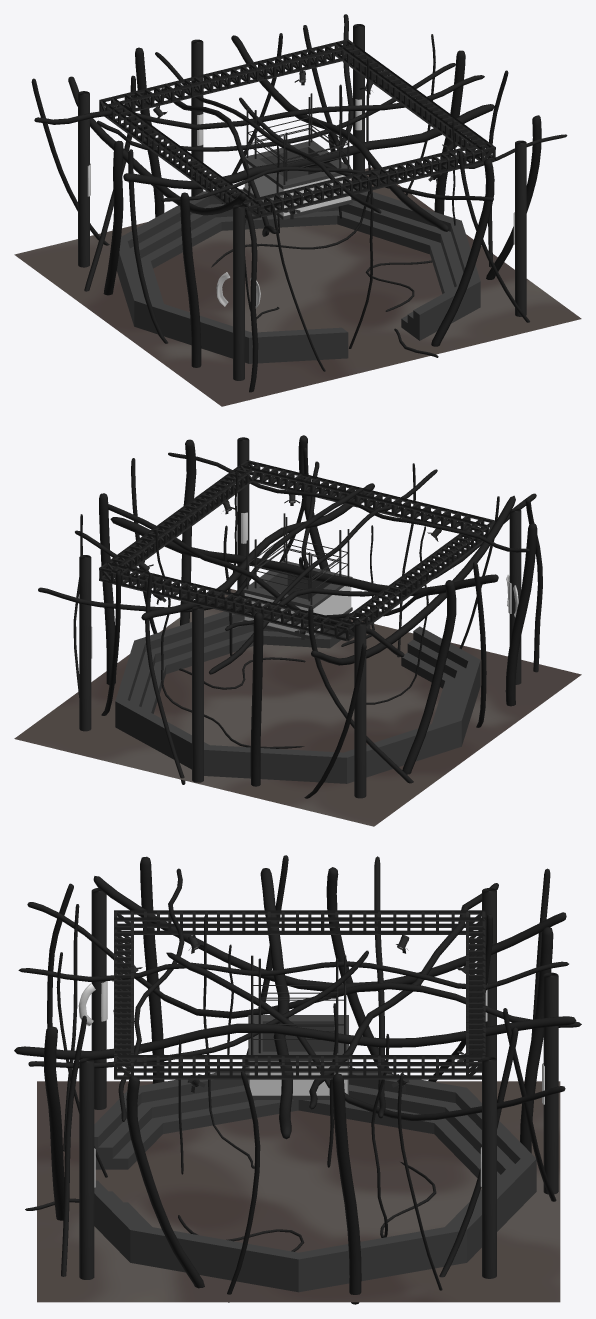
3 renders of one model, top to bottom at view 1: azimuth 30°, elevation 25°; view 2: azimuth 150°, elevation 25°; view 3: azimuth 270°, elevation 25°, orthographic. The views are drawn at different scales.
Parts seen in each view (by area): view 1: Floor, Stands, Ceiling Grid, Cube.004, Cube.003, Cube.001, Light Pole Special, Light Pole.003, Light Pole, Cube.005, Cube.034, Cube.031 (+25 smaller); view 2: Floor, Stands, Ceiling Grid, Cube.004, Light Pole.002, Light Pole.001, Light Pole, Cube.006, Cube.001, Cube.033, Cube.031, Cube.032 (+22 smaller); view 3: Floor, Stands, Ceiling Grid, Cube.005, Light Pole.003, Light Pole.002, Cube.006, Light Pole.001, Cube.011, Cube.007, Cube.030, Light Pole Special (+31 smaller).
Boxes of the visible parts, <box> form: Floor: <box>14,167,581,406</box>; Stands: <box>116,187,480,363</box>; Ceiling Grid: <box>99,39,495,220</box>; Cube.004: <box>123,104,494,189</box>; Cube.003: <box>34,75,484,129</box>; Cube.001: <box>243,140,352,219</box>; Light Pole Special: <box>233,204,244,380</box>; Light Pole.003: <box>515,140,526,316</box>; Light Pole: <box>78,91,89,267</box>; Cube.005: <box>231,35,448,231</box>; Cube.034: <box>431,158,494,346</box>; Cube.031: <box>180,192,201,367</box>; Floor: <box>14,589,581,826</box>; Stands: <box>115,611,480,783</box>; Ceiling Grid: <box>99,460,495,641</box>; Cube.004: <box>110,517,498,596</box>; Light Pole.002: <box>79,555,91,731</box>; Light Pole.001: <box>192,606,203,782</box>; Light Pole: <box>354,622,366,798</box>; Cube.006: <box>311,495,515,665</box>; Cube.001: <box>243,560,352,639</box>; Cube.033: <box>402,580,456,774</box>; Cube.031: <box>505,523,537,706</box>; Cube.032: <box>250,612,263,786</box>; Floor: <box>37,1081,560,1302</box>; Stands: <box>94,1067,536,1292</box>; Ceiling Grid: <box>114,910,485,1079</box>; Cube.005: <box>14,1016,576,1060</box>; Light Pole.003: <box>79,1058,94,1279</box>; Light Pole.002: <box>482,1057,496,1278</box>; Cube.006: <box>93,876,566,991</box>; Light Pole.001: <box>543,972,558,1194</box>; Cube.011: <box>27,902,581,1027</box>; Cube.007: <box>18,961,568,989</box>; Cube.030: <box>332,1073,361,1304</box>; Light Pole Special: <box>91,888,106,1109</box>.
Size of the model in its own units: 5908 by 2881 by 5969.
